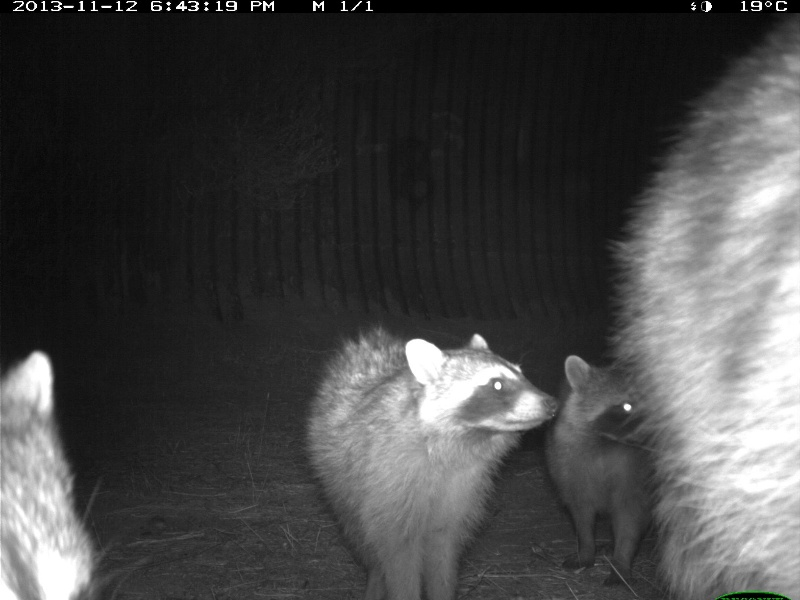raccoon: (303, 321, 560, 594), (551, 346, 657, 584)
